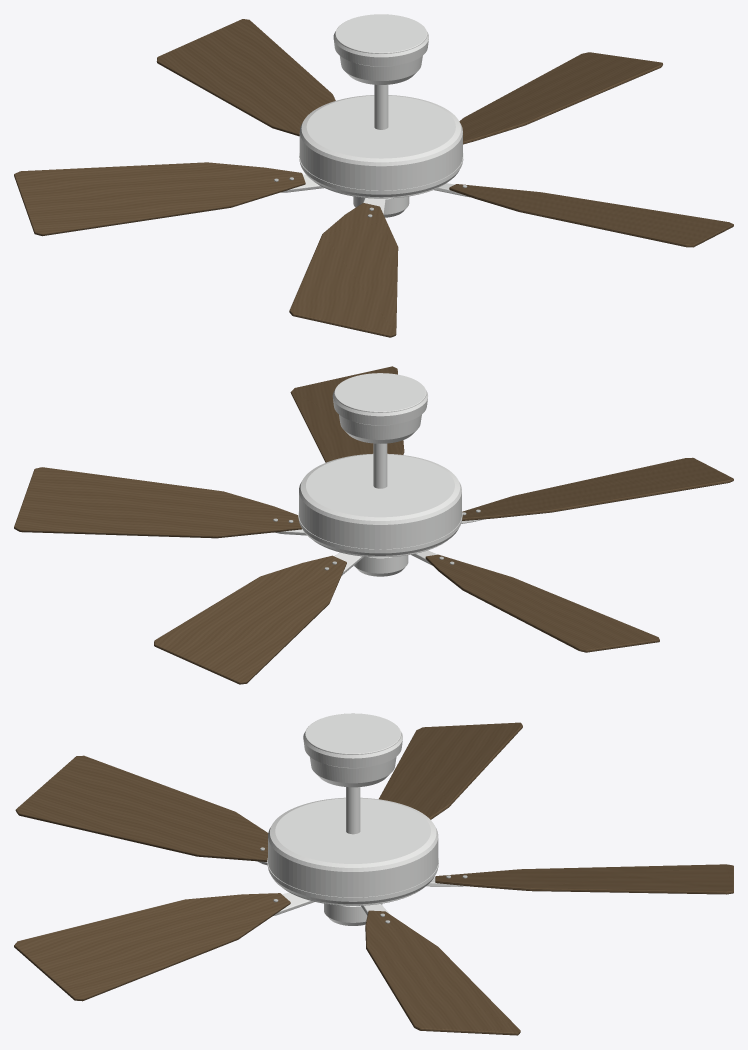
3 views of the same model, one above another, from view 1: azimuth 30°, elevation 25°; view 2: azimuth 150°, elevation 25°; view 3: azimuth 270°, elevation 25° (orthographic). The views are drawn at different scales.
Visible parts, largest first — view 1: visual_part_001_0_1, visual_part_001_0_2, visual_part_000_0_0; view 2: visual_part_001_0_1, visual_part_001_0_2, visual_part_000_0_0; view 3: visual_part_001_0_1, visual_part_001_0_2, visual_part_000_0_0.
Part boxes in pixels (bbox=[...]): visual_part_001_0_1: bbox=[14, 19, 733, 337]; visual_part_001_0_2: bbox=[280, 95, 469, 217]; visual_part_000_0_0: bbox=[333, 14, 428, 129]; visual_part_001_0_1: bbox=[14, 366, 733, 684]; visual_part_001_0_2: bbox=[274, 453, 483, 576]; visual_part_000_0_0: bbox=[332, 373, 427, 488]; visual_part_001_0_1: bbox=[14, 722, 733, 1035]; visual_part_001_0_2: bbox=[257, 797, 466, 925]; visual_part_000_0_0: bbox=[303, 713, 402, 834].
Bounding box in the file's own units: 1.24 × 0.33 × 1.18.
3 materials, 1 textured.
